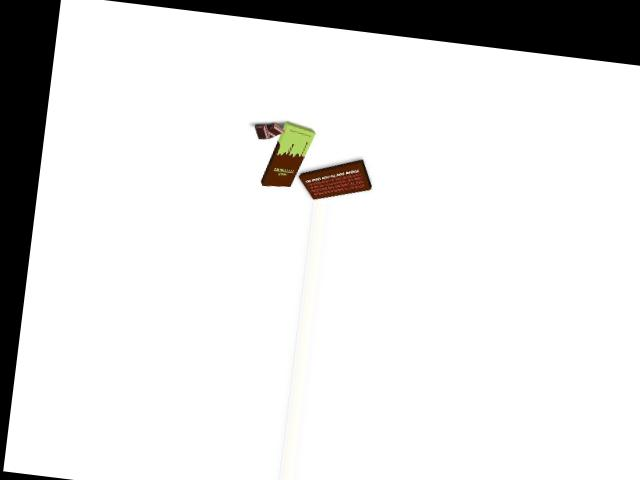chocolate: (265, 117, 313, 192)
